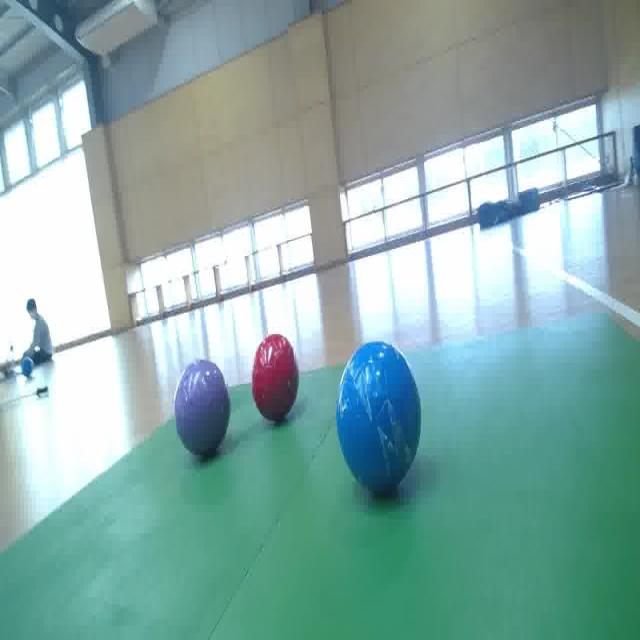blue_ball: (336, 342, 425, 501)
purple_ball: (178, 357, 228, 459)
red_ball: (252, 336, 302, 425)
